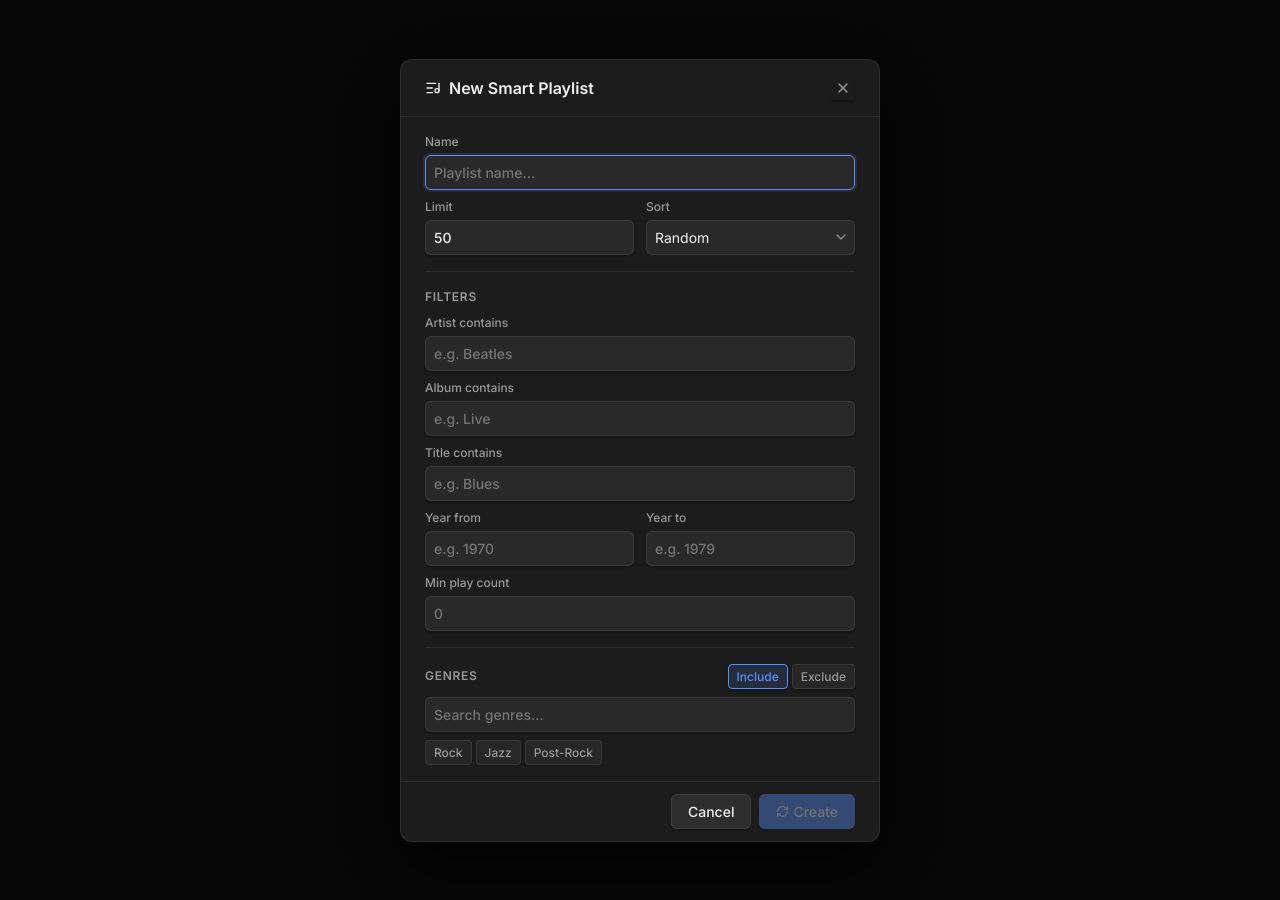
Test: SmartPlaylistModal save gating › drops the save error once the form is edited
The image size is (1280, 900).
Step 1. Type "Mix" into the field with placeholder "Playlist name…" → point(640, 172), box [425,154,855,190]
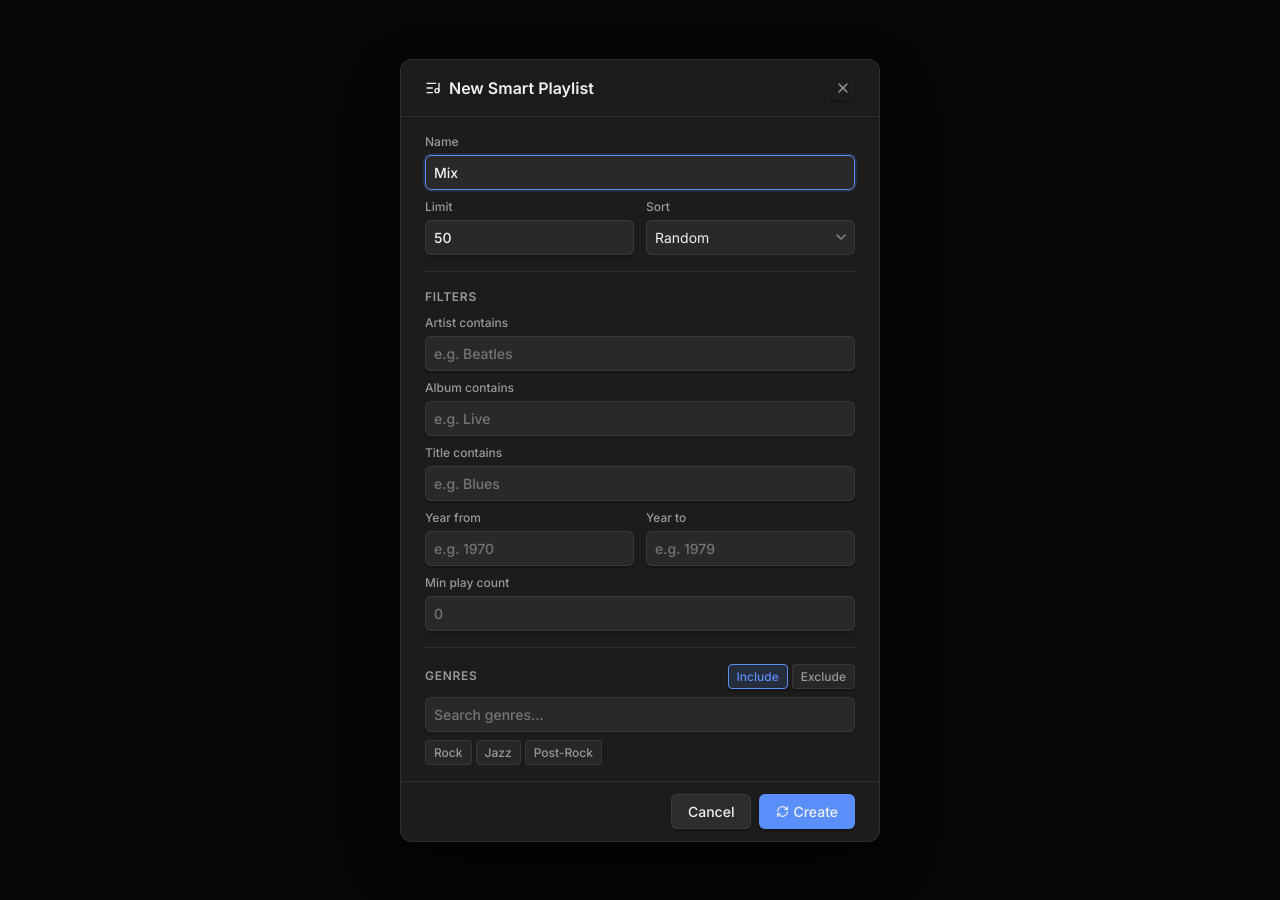
Step 2. Click the button "Create" → point(807, 811), box [759,794,855,828]
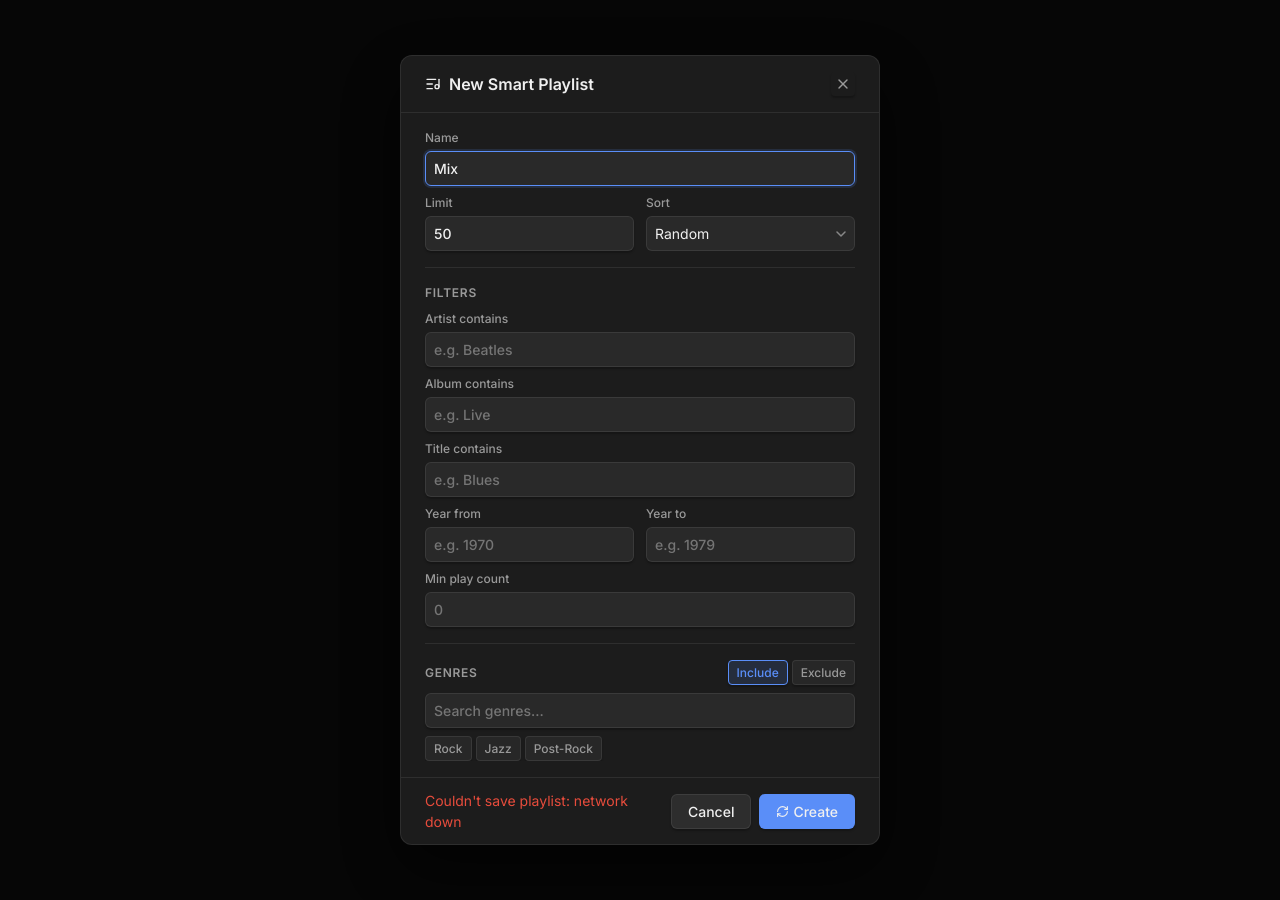
Check: the message with class "spm-error" shows "network down", box [425,792,628,830]
Step 3. Replace the text in the 1st field with "Mix 2" → point(640, 168), box [425,151,855,186]
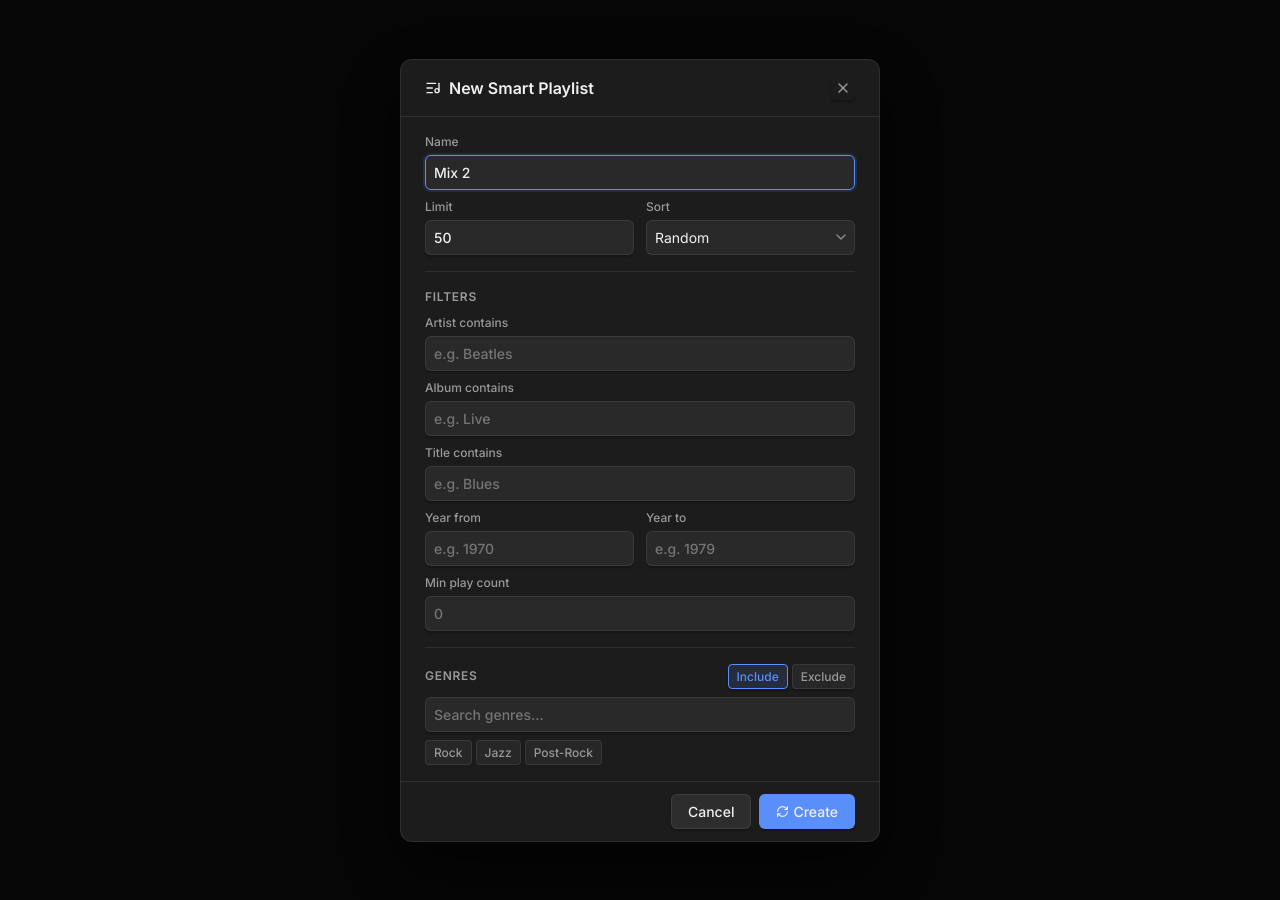
Check: the message with class "spm-error" is gone
